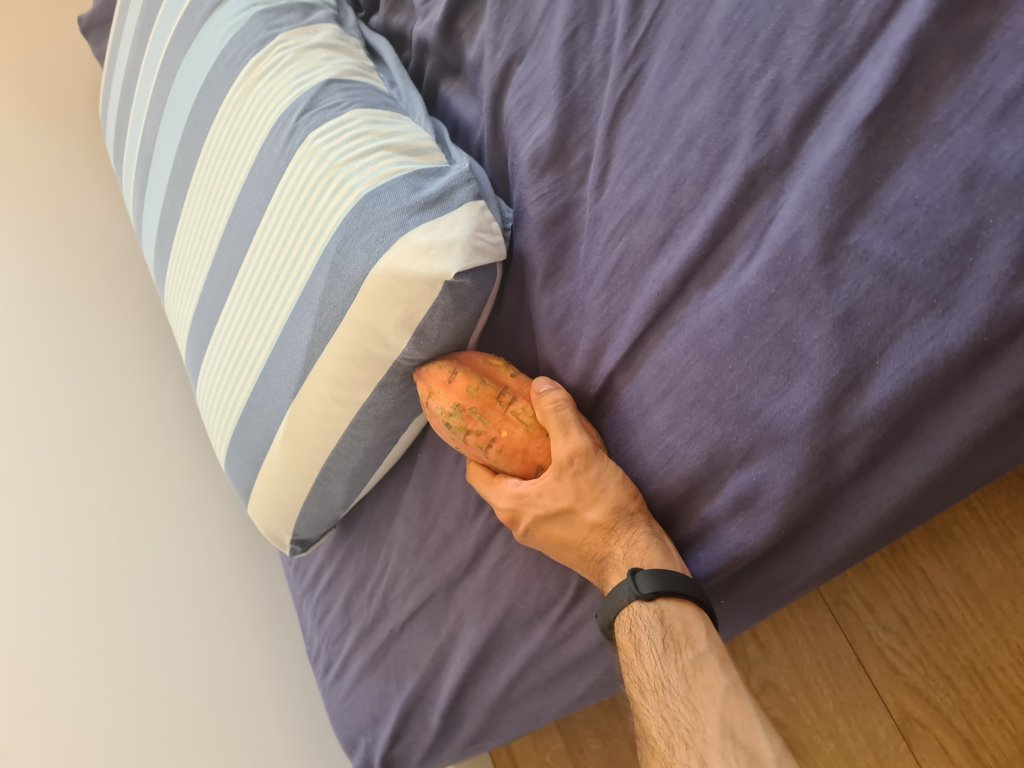Sweet Potatow: (415, 351, 597, 484)
